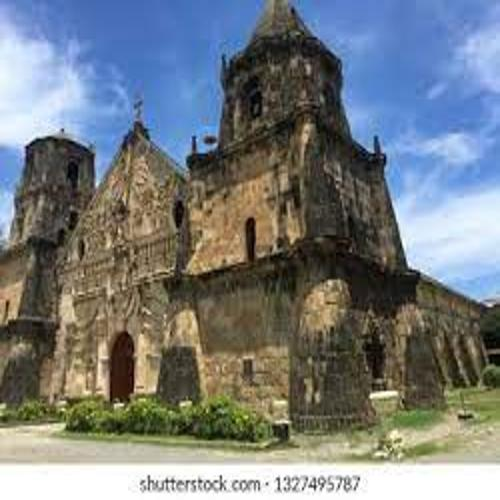Miagao Church: (2, 5, 377, 434)
